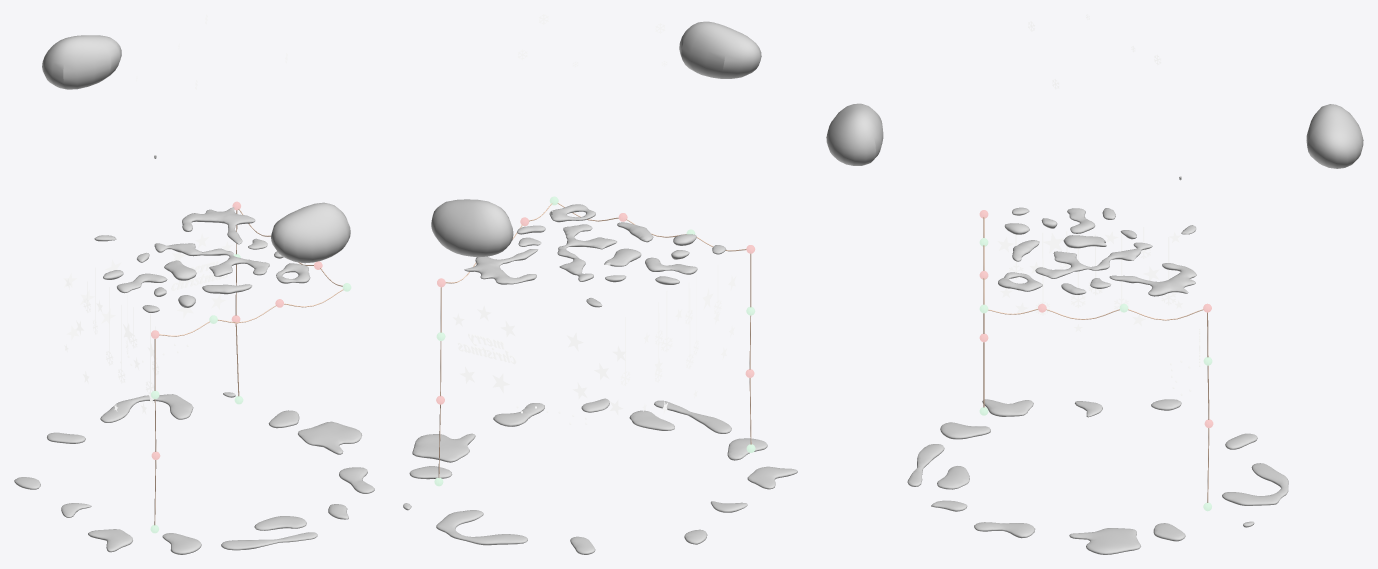
3 renders of one model, left to right at view 1: azimuth 30°, elevation 25°; view 2: azimuth 150°, elevation 25°; view 3: azimuth 270°, elevation 25°, orthographic. The views are drawn at different scales.
Parts seen in each view (by area): view 1: SnowBall.002, SnowBall.001, Sphere.001, Sphere.002; view 2: SnowBall.002, SnowBall.001, Sphere.002, Sphere.001; view 3: SnowBall.002, SnowBall.001, Sphere.002, Sphere.001.
Boxes of the visible parts, <box> form: SnowBall.002: <box>14,392,374,554</box>; SnowBall.001: <box>94,207,310,312</box>; Sphere.001: <box>271,202,350,263</box>; Sphere.002: <box>42,35,121,89</box>; SnowBall.002: <box>403,398,797,554</box>; SnowBall.001: <box>464,204,726,307</box>; Sphere.002: <box>431,199,513,256</box>; Sphere.001: <box>679,21,761,78</box>; SnowBall.002: <box>907,399,1288,554</box>; SnowBall.001: <box>998,207,1196,296</box>; Sphere.002: <box>1306,104,1363,168</box>; Sphere.001: <box>826,103,883,165</box>.
Size of the model in its own units: 6.89 by 9.15 by 10.15.
